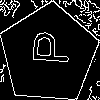P: (24, 29, 70, 66)
